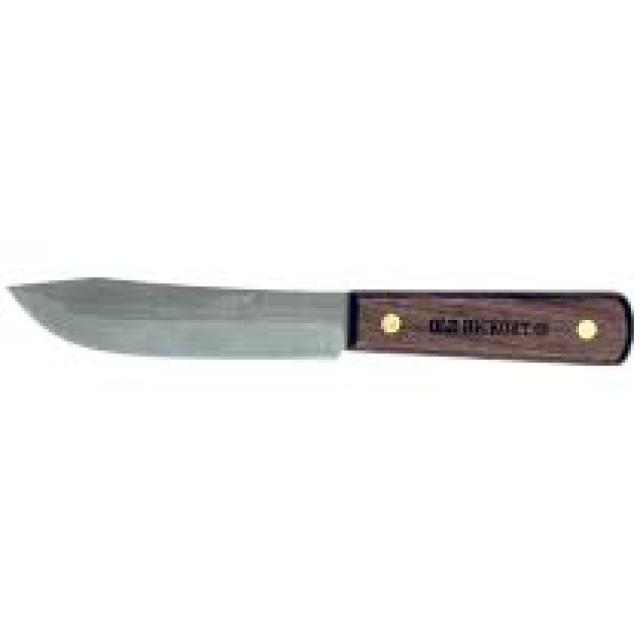knife: (6, 274, 639, 382)
